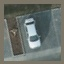car: (25, 16, 39, 50)
